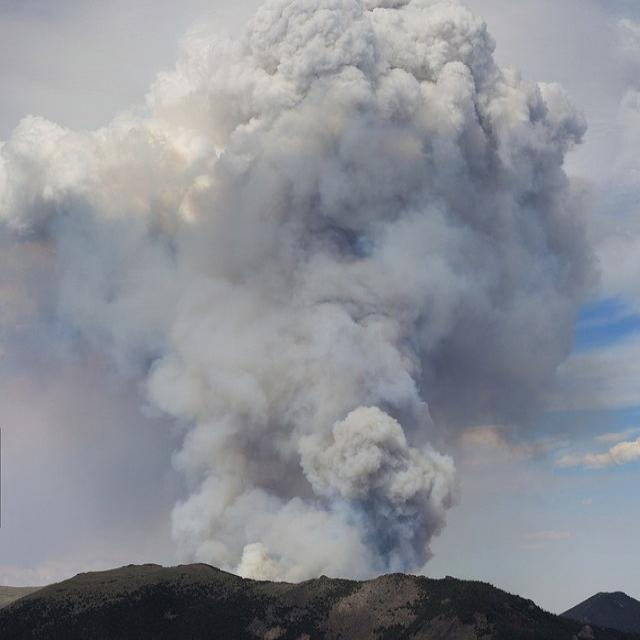Smoke: (0, 0, 613, 580)
